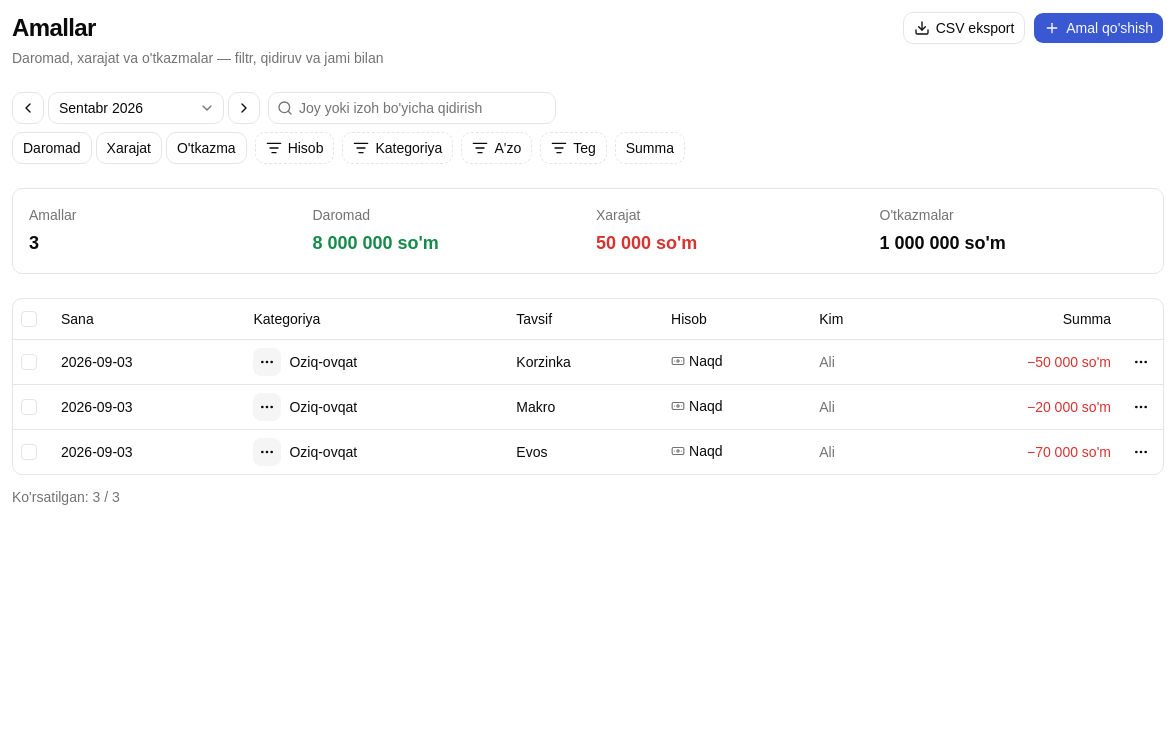
Test: Ommaviy amallar va CSV (E23-T03) › sahifadagilarni tanlash; filtr o‘zgarsa tanlov tozalanadi
Click the checkbox named "Sahifadagilarni tanlash" at (29, 319), box [21,311,37,327]
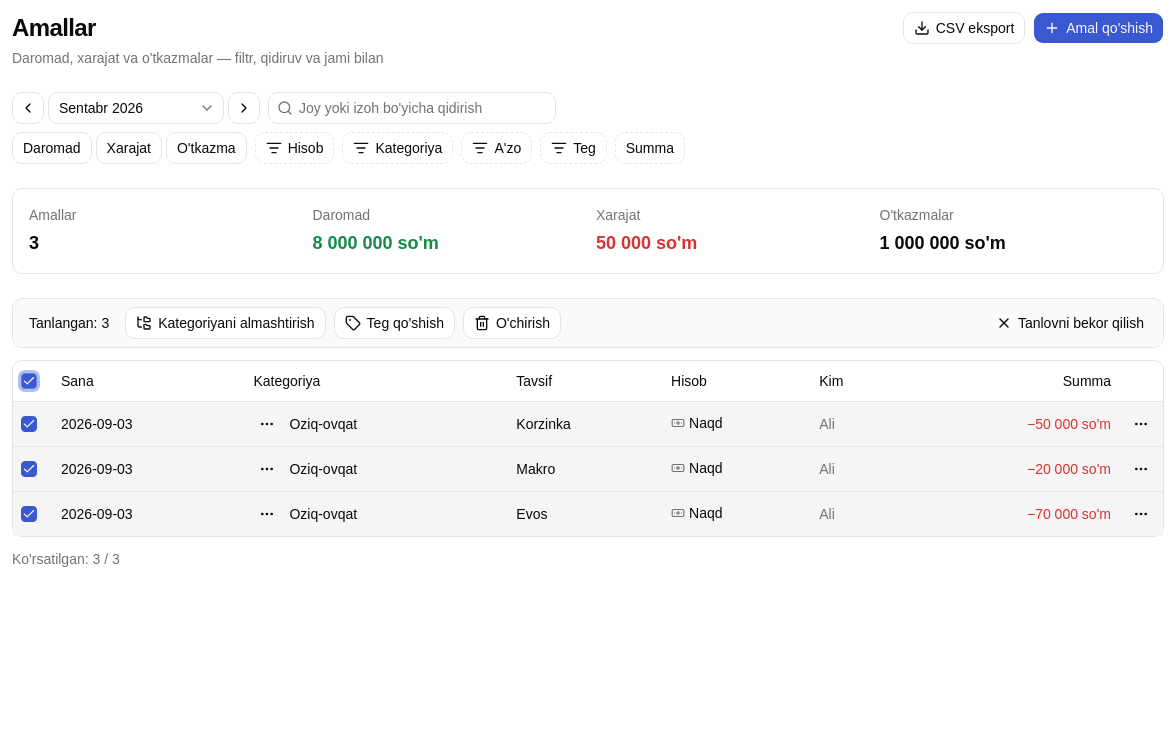
Check: the element "Tanlangan: 3" is shown, box [12,298,1164,348]
Click the button "Xarajat" at (129, 148), box [96,132,162,164]
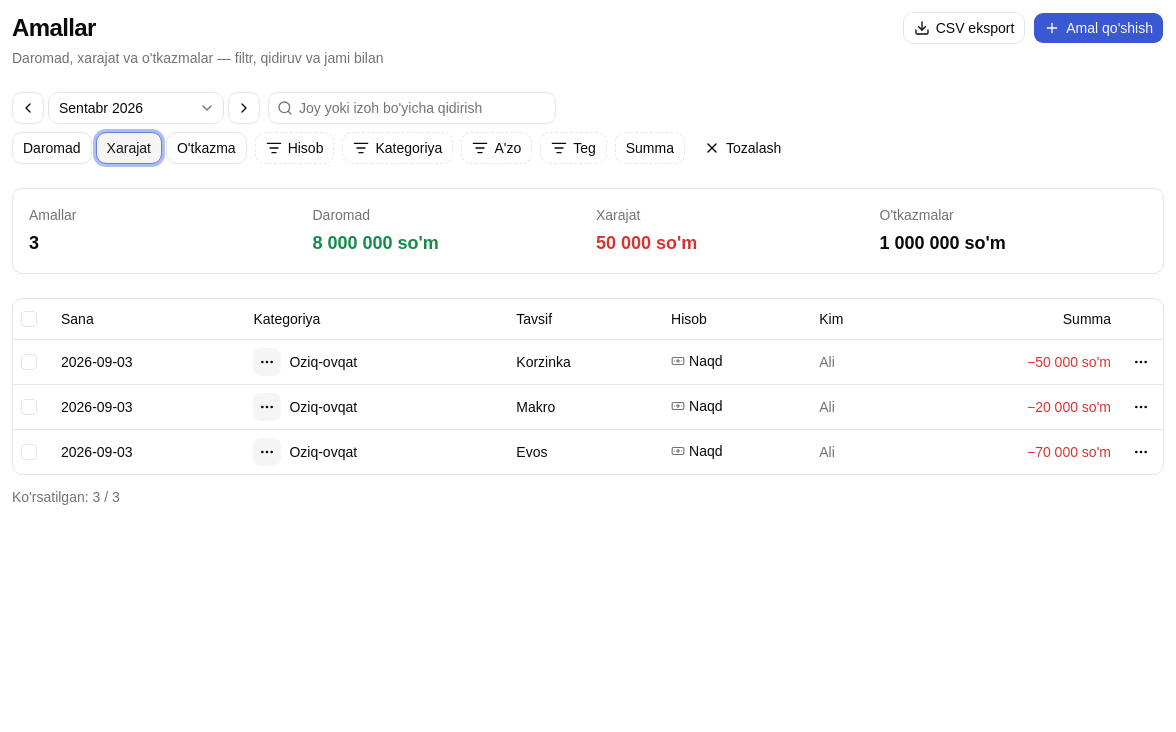
Check: the text "Tanlangan" is gone
